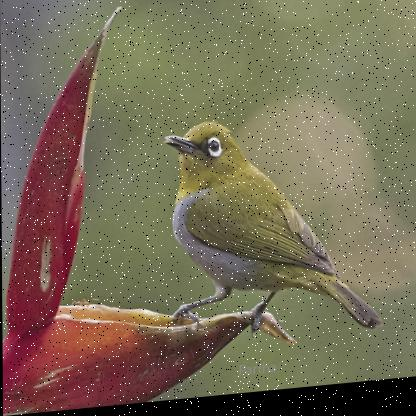Burung: (163, 112, 381, 352)
